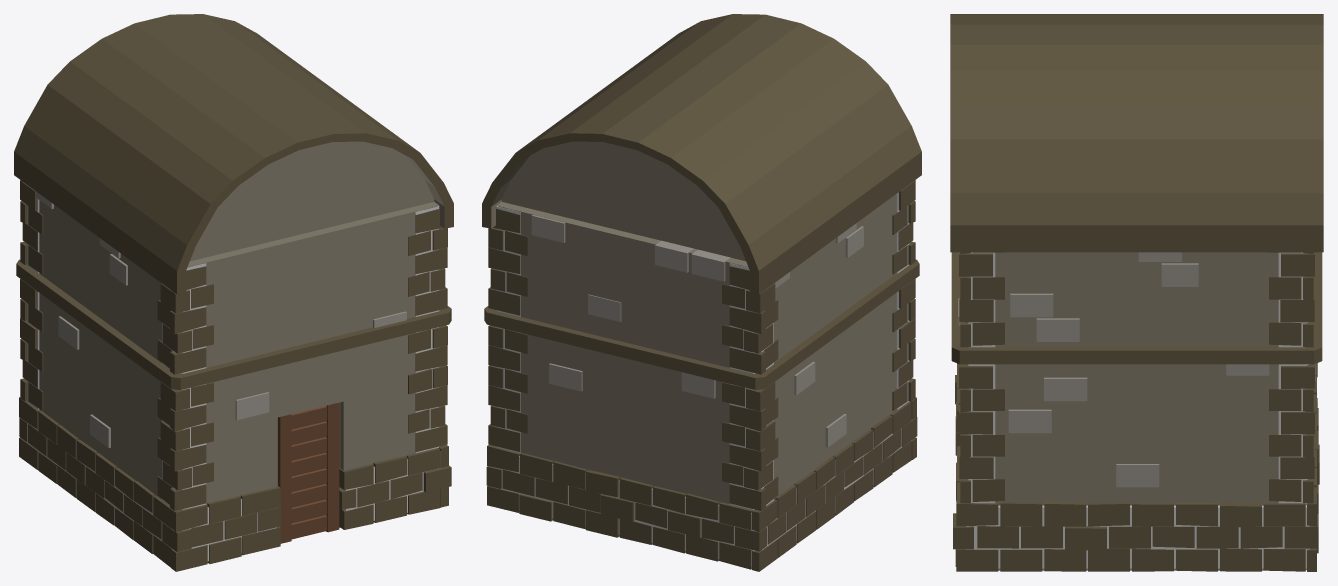
Rendered from quat_2story_roundroof.glb.
3 renders of one model, left to right at view 1: azimuth 30°, elevation 25°; view 2: azimuth 150°, elevation 25°; view 3: azimuth 270°, elevation 25°, orthographic. The views are drawn at different scales.
Parts seen in each view (by area): view 1: 2Story_RoundRoof_Cube.148; view 2: 2Story_RoundRoof_Cube.148; view 3: 2Story_RoundRoof_Cube.148.
Boxes of the visible parts, x1,y1,x2,y2 form: 2Story_RoundRoof_Cube.148: (14,14,453,571); 2Story_RoundRoof_Cube.148: (482,14,921,571); 2Story_RoundRoof_Cube.148: (950,14,1323,571).
Size of the model in its own units: 2.11 by 2.9 by 2.13.
Materials: 1 (1 with a texture image).
